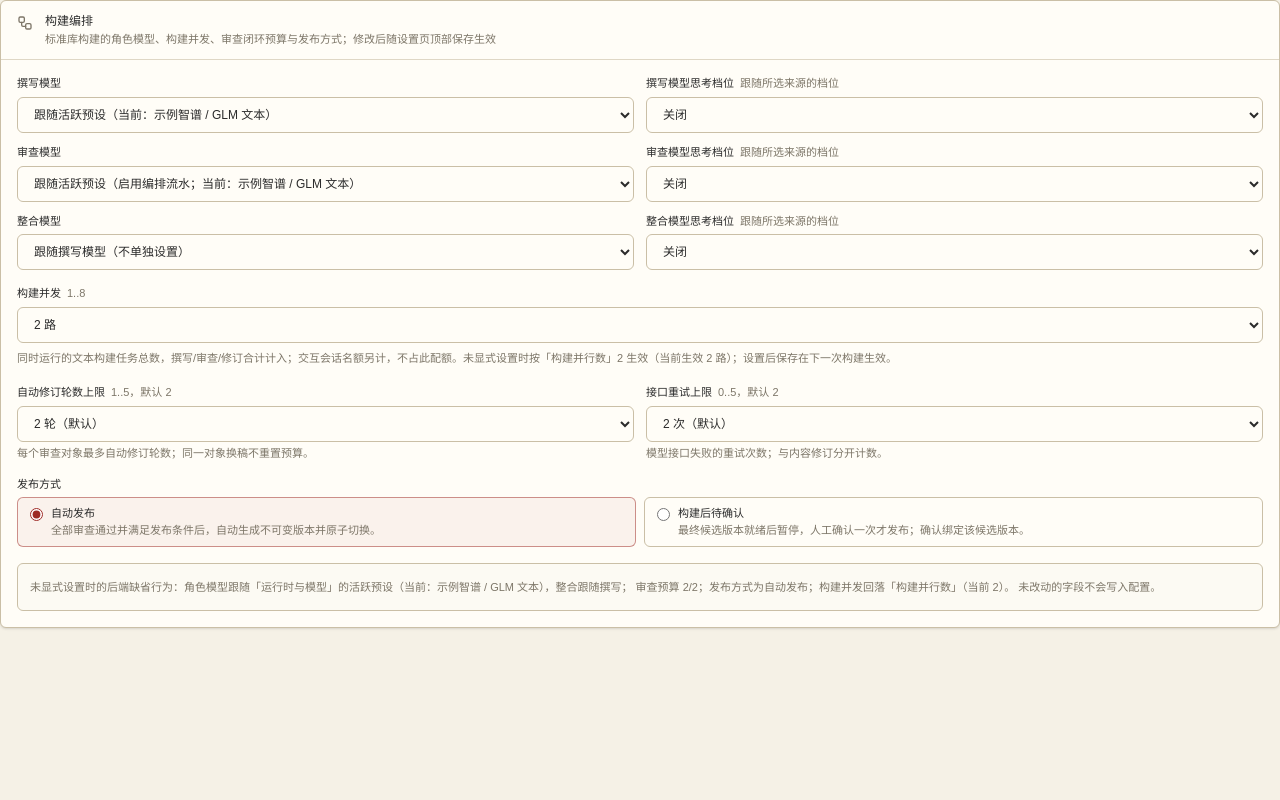
校验错误展示 › APIError.response.details 数组形态优先映射
The image size is (1280, 800).
Select "2 轮（默认）" in the dropdown named "自动修订轮数上限" at [326, 424], box [17, 406, 634, 442]
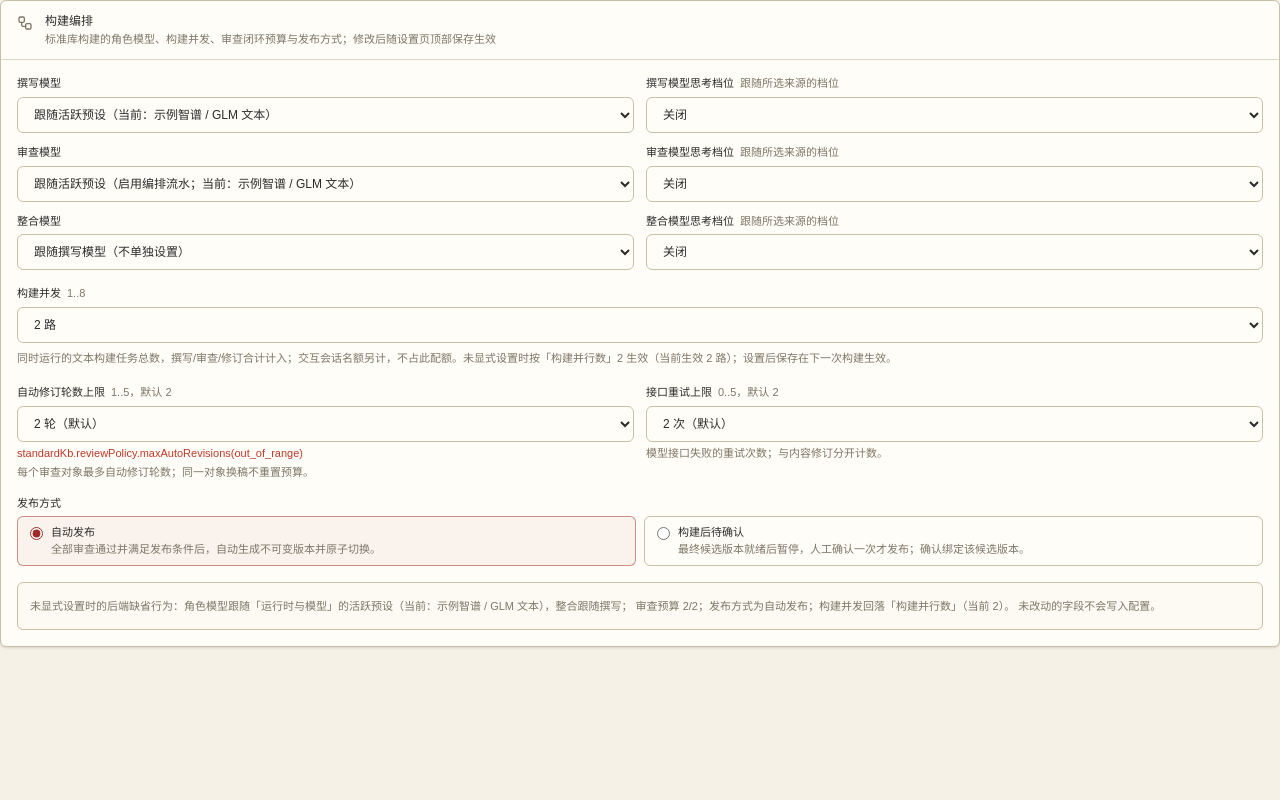
Check: the text "standardKb.reviewPolicy.maxAutoRevisions(out_of_range)" is shown, box [17, 446, 303, 458]
